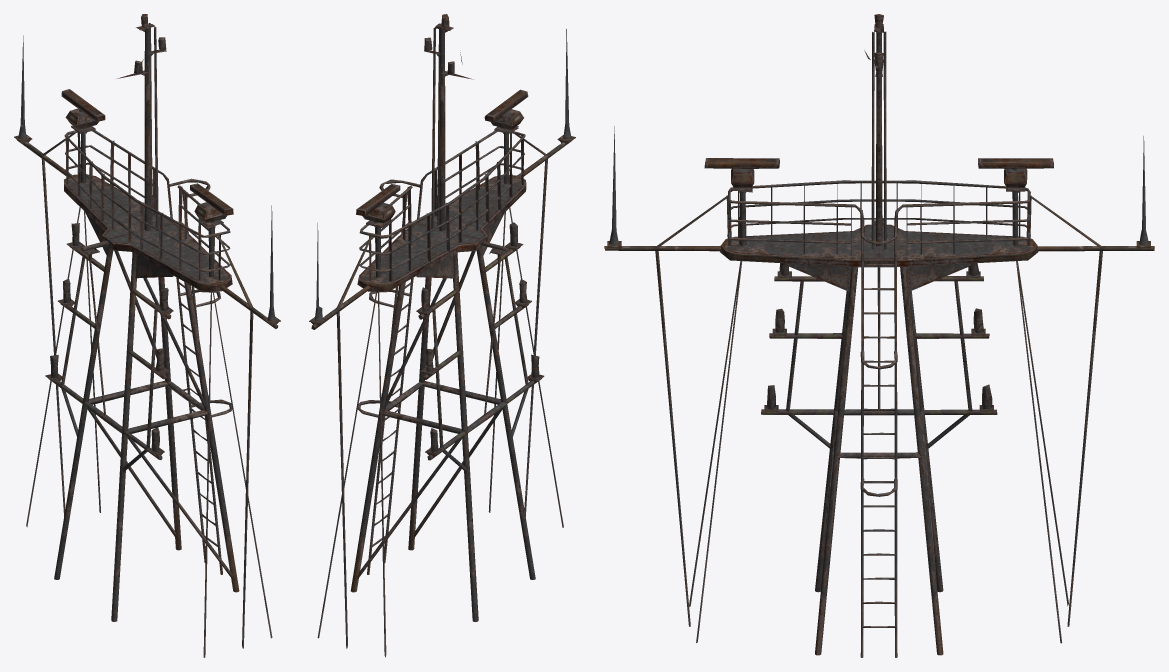
File: SM_Antenna_01.fbx
3 renders of one model, left to right at view 1: azimuth 30°, elevation 25°; view 2: azimuth 150°, elevation 25°; view 3: azimuth 270°, elevation 25°, orthographic. The views are drawn at different scales.
Parts seen in each view (by area): view 1: SM_Antenna_01_LOD0; view 2: SM_Antenna_01_LOD0; view 3: SM_Antenna_01_LOD0.
Boxes of the visible parts, bbox=[...] form: SM_Antenna_01_LOD0: bbox=[14, 14, 280, 657]; SM_Antenna_01_LOD0: bbox=[309, 14, 575, 657]; SM_Antenna_01_LOD0: bbox=[604, 14, 1154, 657].
Bounding box in the file's own units: 187 × 559 × 680.
Materials: 1 (1 with a texture image).
